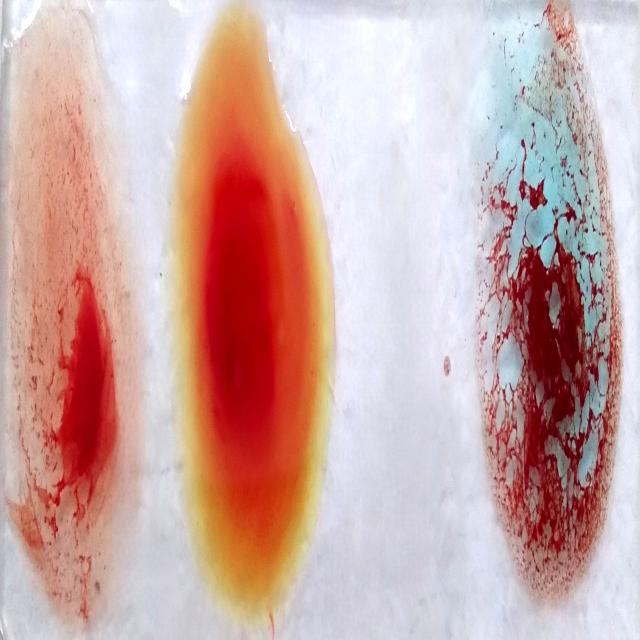A: (473, 4, 622, 600)
D: (0, 30, 128, 624)
